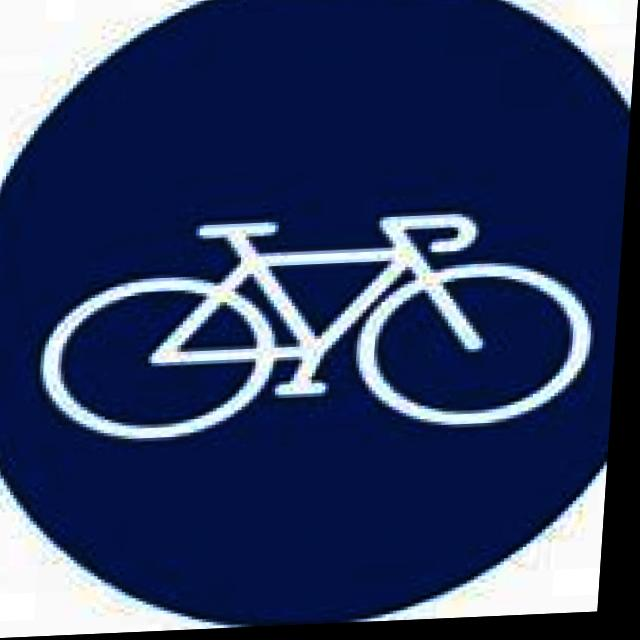COMPULSARY_CYCLE_TRACK: (0, 0, 640, 637)
